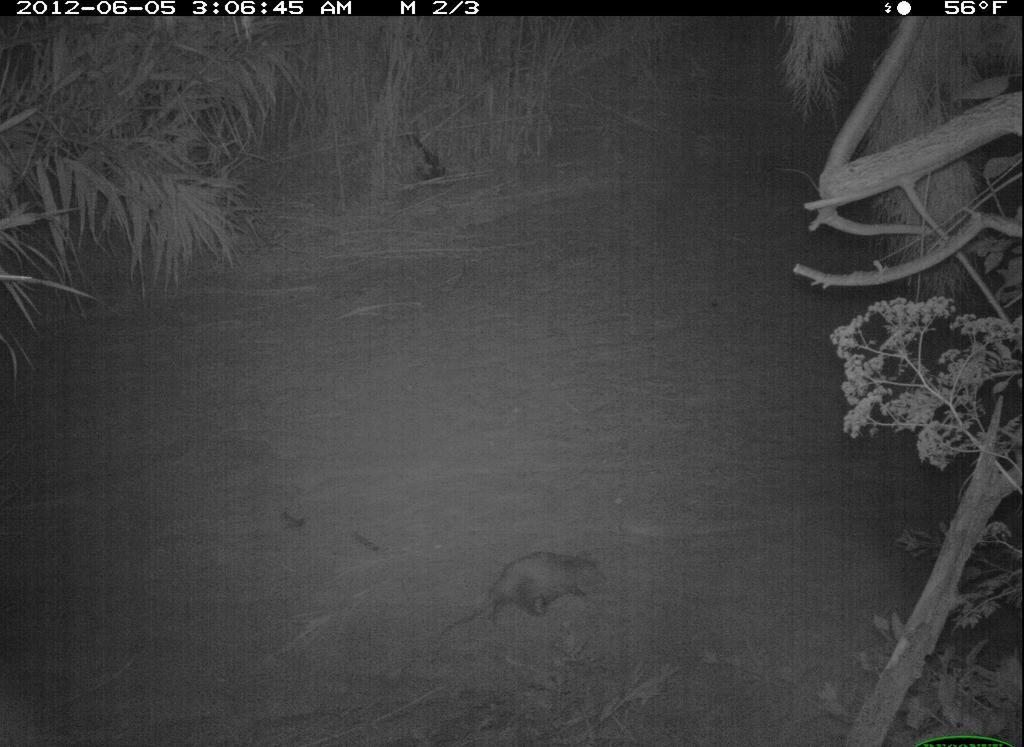opossum: (449, 520, 639, 665)
